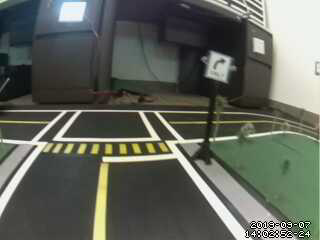Right_only_sign: (203, 45, 235, 89)
